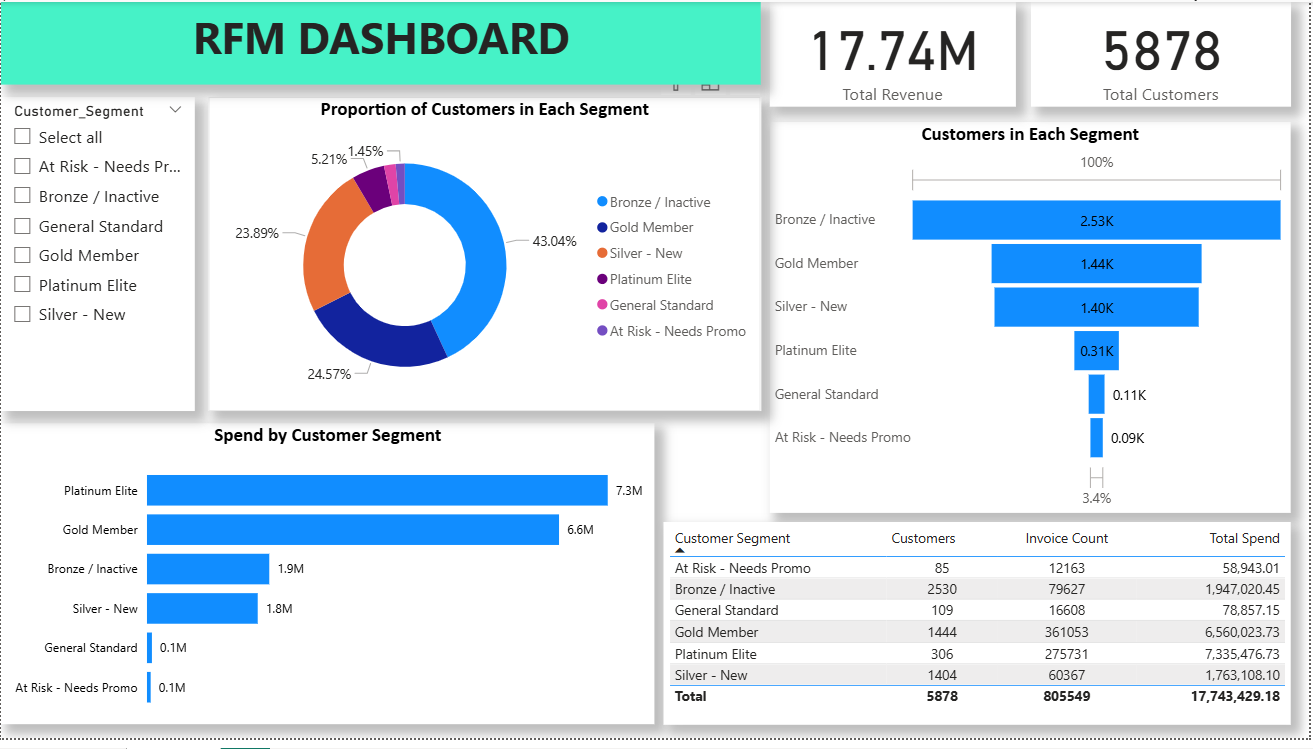

What the dashboard file says about the page in this screenshot:
{"tool":"powerbi","page":{"name":"Page 1","canvas":[1280,720],"ordinal":0},"visuals":[{"type":"funnel","title":"Customers in Each Segment","fields":{"Category":["retails final_table.Customer_Segment"],"Y":["CountNonNull(retails final_table.Customer_ID)"]},"box":[752,117.4,509.9,382.7],"z":0},{"type":"clusteredBarChart","title":"Spend by Customer Segment","fields":{"Category":["retails final_table.Customer_Segment"],"Y":["Sum(retails final_table.Total_Spend)"]},"box":[0,412.1,639.5,294.7],"z":1000},{"type":"slicer","fields":{"Values":["retails final_table.Customer_Segment"]},"box":[0,92.9,189.5,306.9],"z":2000},{"type":"donutChart","title":"Proportion of Customers in Each Segment","fields":{"Category":["retails final_table.Customer_Segment"],"Y":["CountNonNull(retails final_table.Customer_ID)"]},"box":[203,92.9,540.5,306.9],"z":3000},{"type":"card","fields":{"Values":["Sum(retails final_table.Total_Spend)"]},"box":[752,0,240.9,102.7],"z":4000},{"type":"tableEx","fields":{"Values":["retails final_table.Customer_Segment","CountNonNull(retails final_table.Customer_ID)","Sum(retails final_table.Invoice_Count)","Sum(retails final_table.Total_Spend)"]},"box":[648.1,508.7,613.9,198.1],"z":5000},{"type":"card","fields":{"Values":["CountNonNull(retails final_table.Customer_ID)"]},"box":[1007.6,0,254.3,102.7],"z":6000},{"type":"textbox","box":[0,0,743.5,80.7],"z":7000}]}

Visuals, with their boxes in screenshot pixels (x1, y1, x2, y2), scaled from the page's 1280x720 canvas onto the 1313x749 screenshot:
"Customers in Each Segment" funnel: x1=771 y1=122 x2=1294 y2=520
"Spend by Customer Segment" clusteredBarChart: x1=0 y1=429 x2=656 y2=735
slicer - retails final_table.Customer_Segment: x1=0 y1=97 x2=194 y2=416
"Proportion of Customers in Each Segment" donutChart: x1=208 y1=97 x2=763 y2=416
card - Sum(retails final_table.Total_Spend): x1=771 y1=0 x2=1018 y2=107
tableEx - retails final_table.Customer_Segment x CountNonNull(retails final_table.Customer_ID): x1=665 y1=529 x2=1295 y2=735
card - CountNonNull(retails final_table.Customer_ID): x1=1034 y1=0 x2=1294 y2=107
textbox: x1=0 y1=0 x2=763 y2=84
